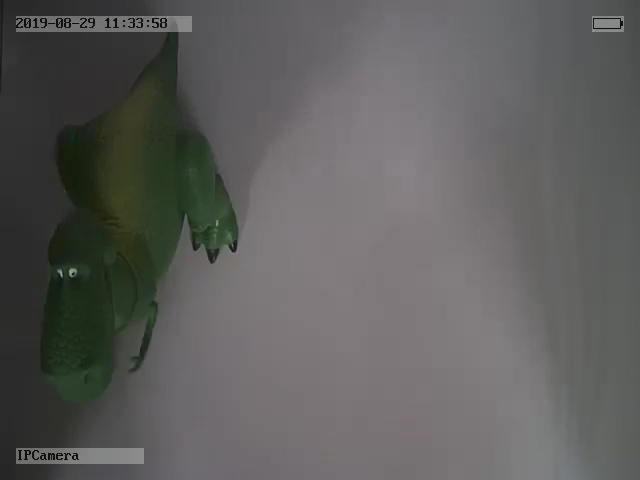rex: (39, 33, 239, 404)
